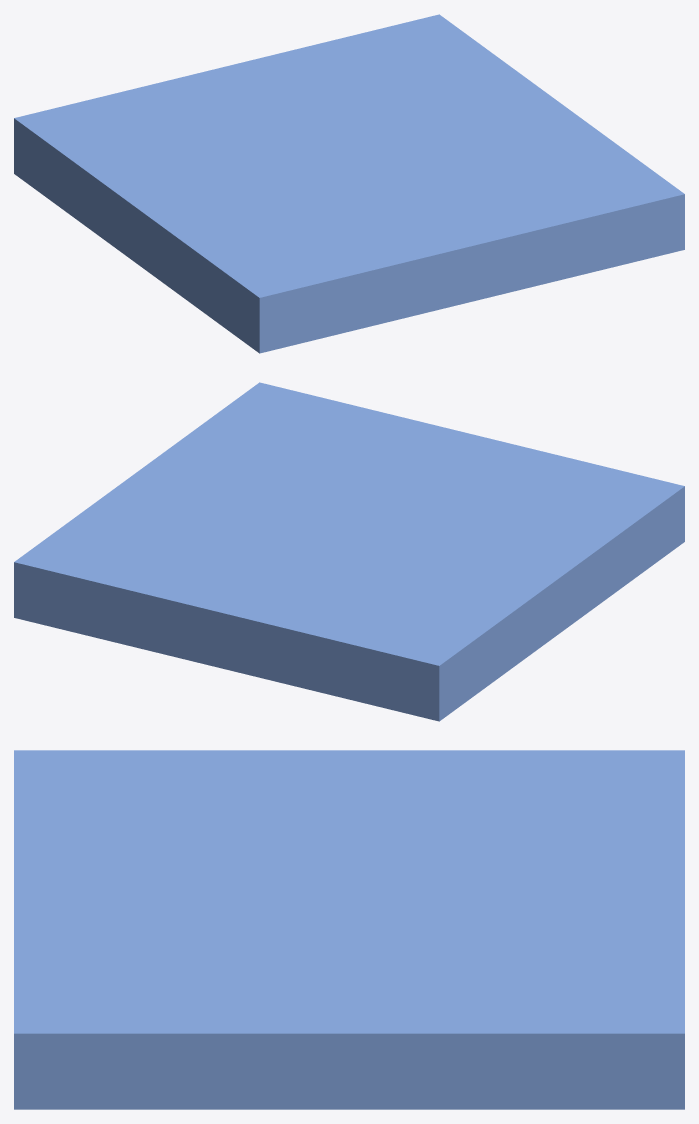
The model's file is aerogel_tile.glb.
The picture shows the model from 3 angles, top to bottom: view 1: azimuth 30°, elevation 25°; view 2: azimuth 150°, elevation 25°; view 3: azimuth 270°, elevation 25°; orthographic projection. The views are drawn at different scales.
Parts seen in each view (by area): view 1: Mesh; view 2: Mesh; view 3: Mesh.
Part boxes in pixels (x1=…): Mesh: x1=14, y1=14, x2=684, y2=353; Mesh: x1=14, y1=382, x2=684, y2=721; Mesh: x1=14, y1=750, x2=684, y2=1109.
Bounding box in the file's own units: 0.8 × 0.1 × 0.8.
